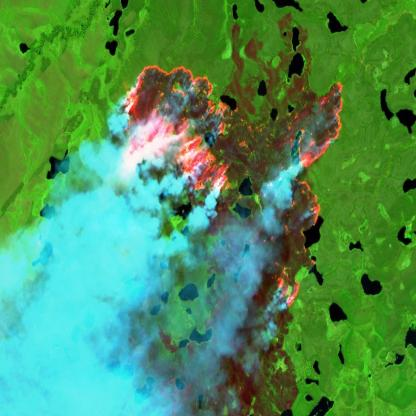fire: (110, 65, 349, 312)
